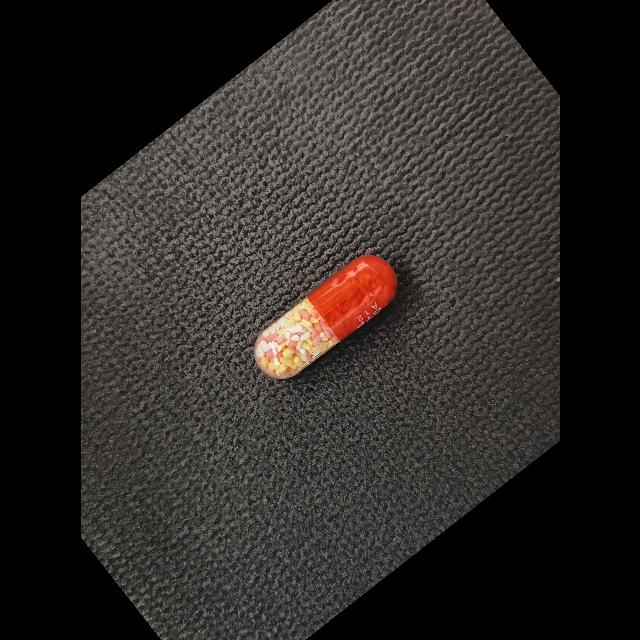Intact Capsule: (253, 255, 397, 379)
